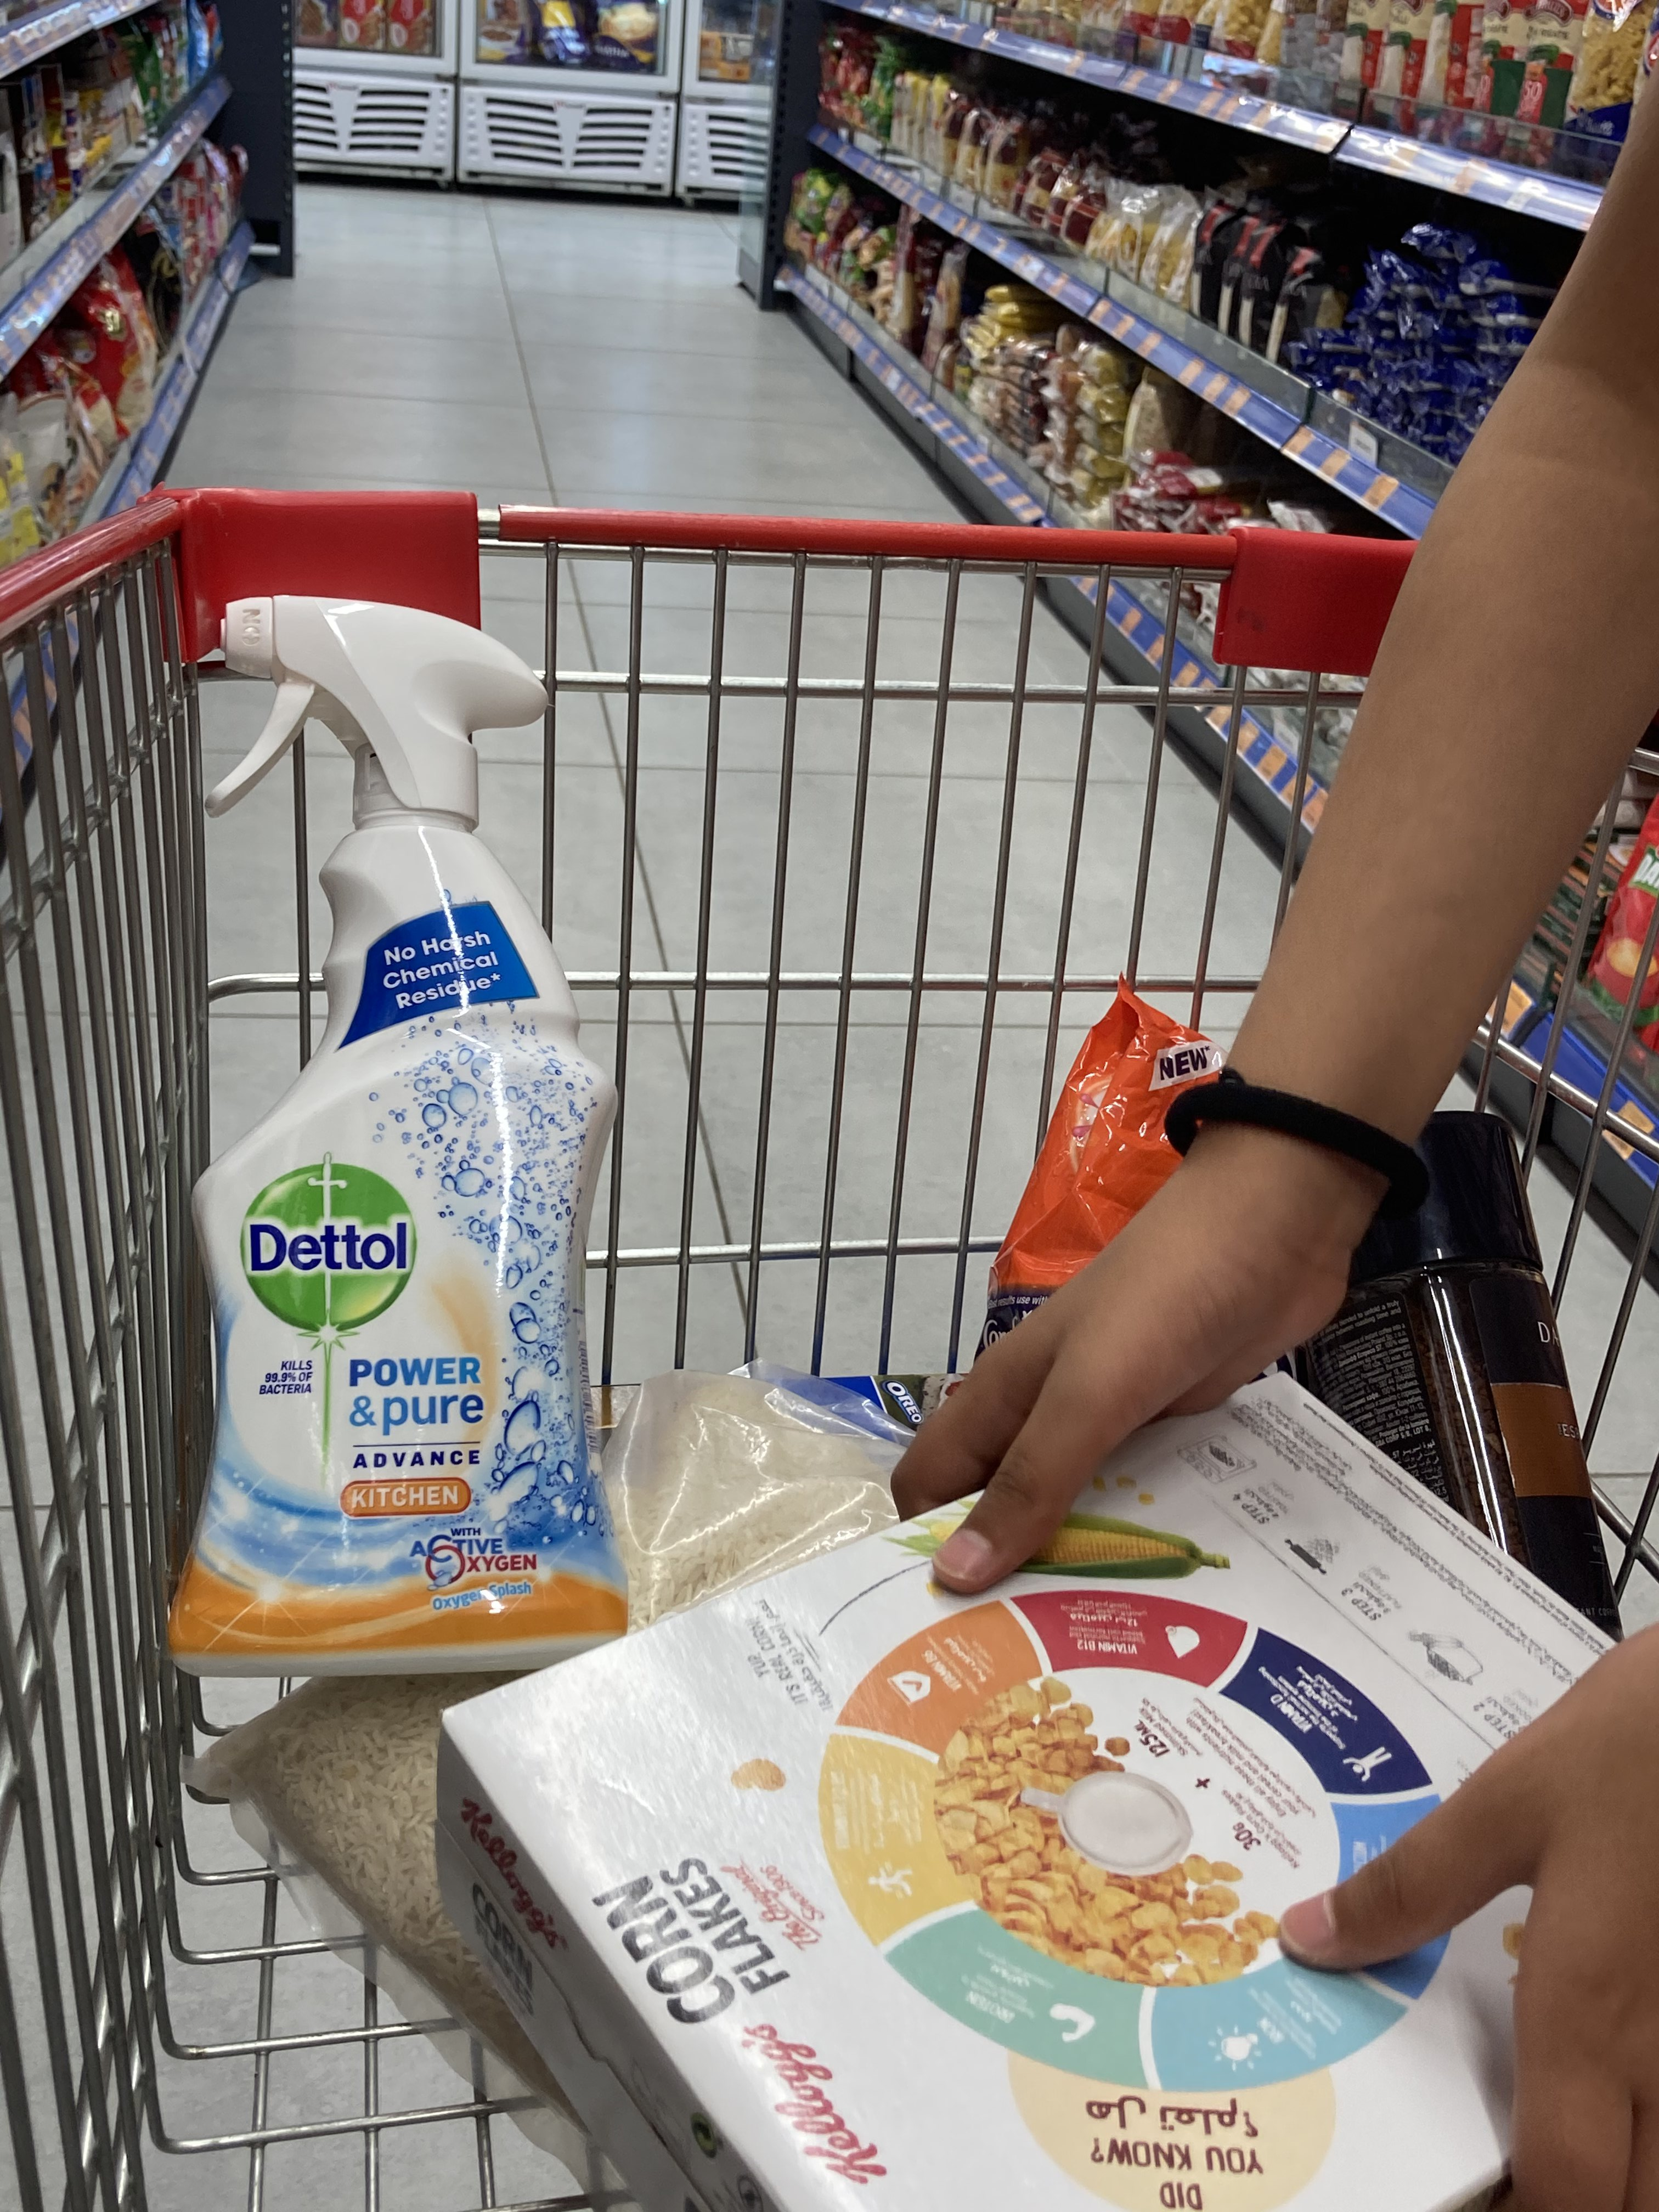Kellogg's Corn Flakes: (430, 1364, 1659, 2210)
